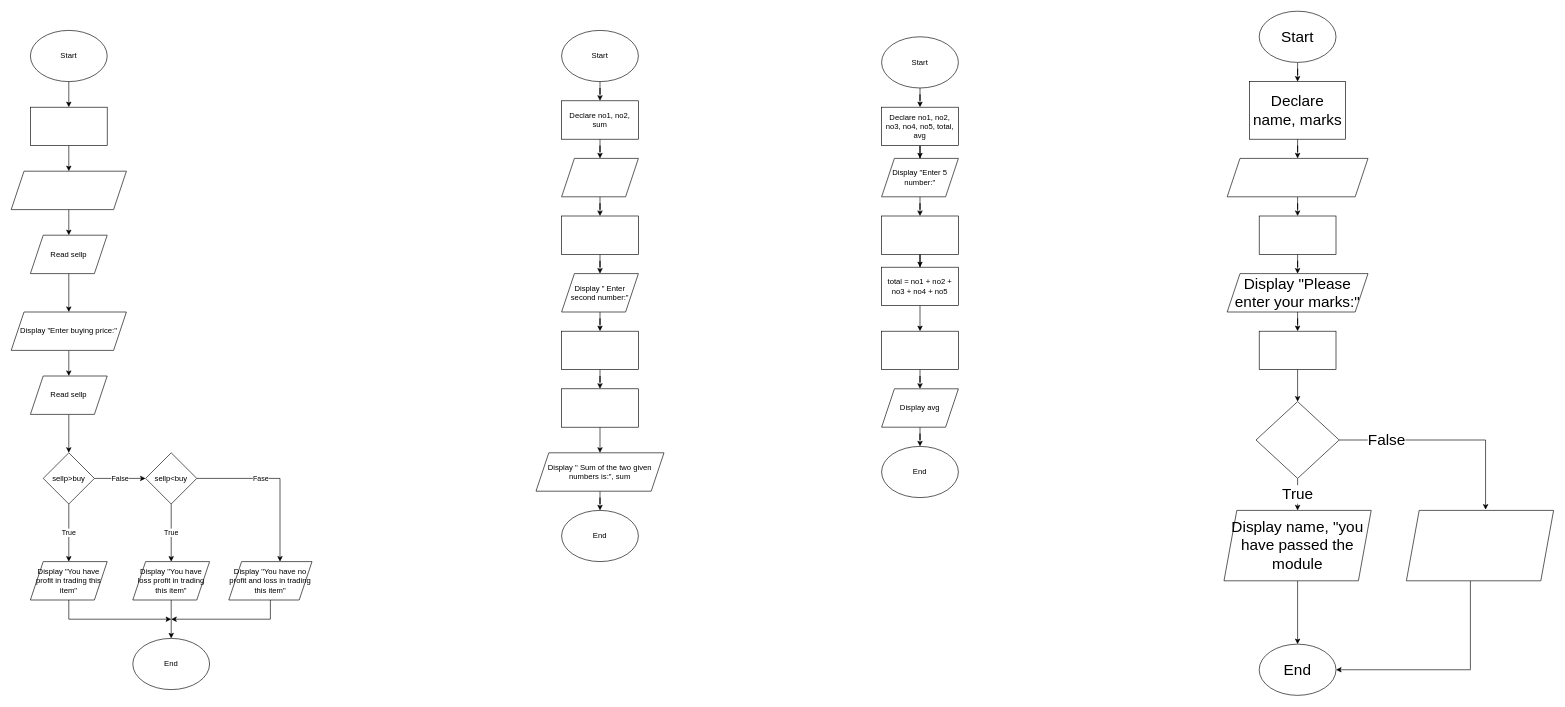
The diagram is 1565 pixels wide and 707 high, and some of its shapes have lost their labels. The shapes that lost their labels are listed below. From the top down, each one's centre as x and y in pixels, then its label:
point 68,126: Declare sellp, buyp
point 68,190: Display "Enter selling price:"
point 599,177: Display " Enter first number:"
point 1297,177: Display "Please enter your name:"
point 599,234: Read no1
point 919,234: Read no1, no2, no3,no4, no5
point 1297,234: Read name
point 599,350: Read no2
point 919,350: avg = total / 5
point 1297,350: Read marks
point 599,407: sum = no1 + no2
point 1297,439: marks >= 50
point 1480,545: Display name, "you have failed the module
